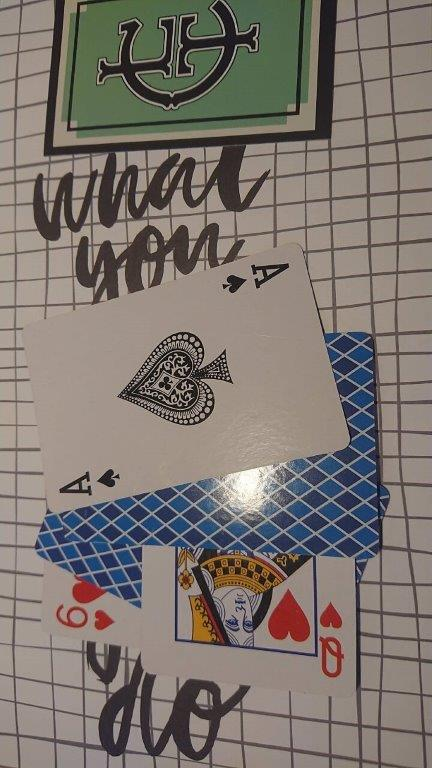6H: (31, 561, 141, 650)
AS: (20, 241, 354, 514)
BACK: (58, 514, 385, 557)
QD: (140, 559, 358, 700)
